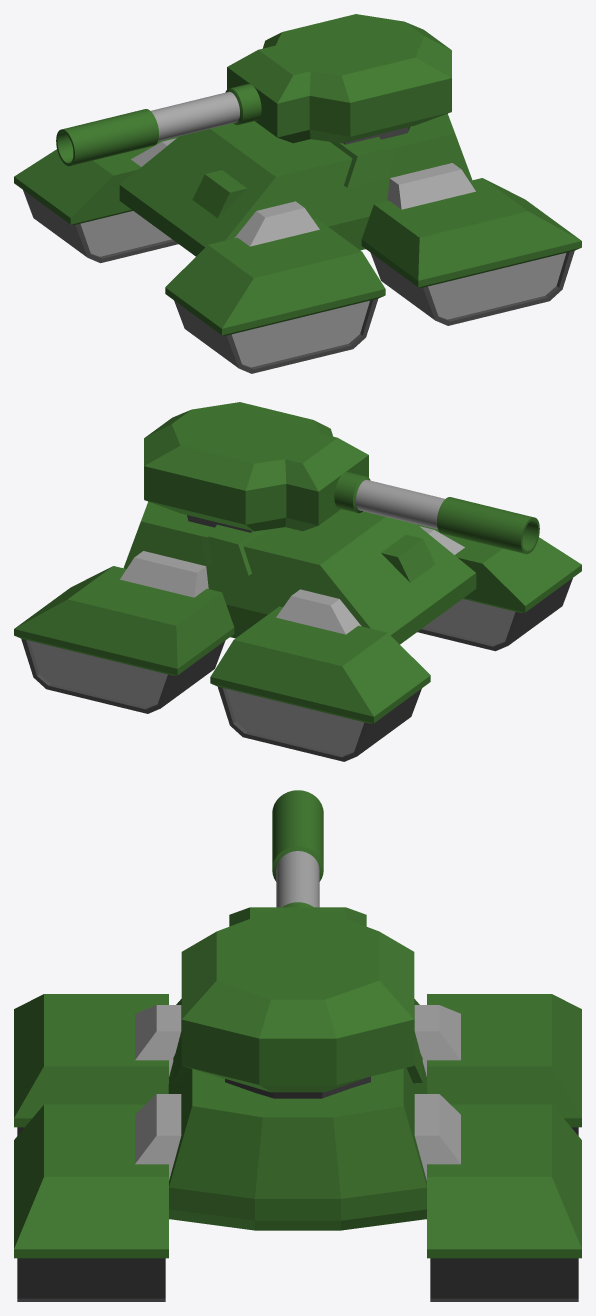
File: Tank.fbx
3 renders of one model, top to bottom at view 1: azimuth 30°, elevation 25°; view 2: azimuth 150°, elevation 25°; view 3: azimuth 270°, elevation 25°, orthographic. The views are drawn at different scales.
Parts seen in each view (by area): view 1: Treads, Body, Head, Barrel; view 2: Treads, Body, Head, Barrel; view 3: Treads, Body, Head, Barrel.
Part boxes in pixels (x1,y1,x2,y2): Treads: [14, 136, 581, 373]; Body: [119, 113, 475, 256]; Head: [227, 14, 451, 144]; Barrel: [56, 84, 261, 166]; Treads: [14, 524, 581, 761]; Body: [120, 501, 476, 644]; Head: [144, 402, 368, 532]; Barrel: [334, 472, 539, 554]; Treads: [14, 994, 581, 1301]; Body: [135, 999, 460, 1230]; Head: [181, 907, 414, 1098]; Barrel: [272, 790, 323, 907].
Bounding box in the file's own units: 504 × 240 × 440.
